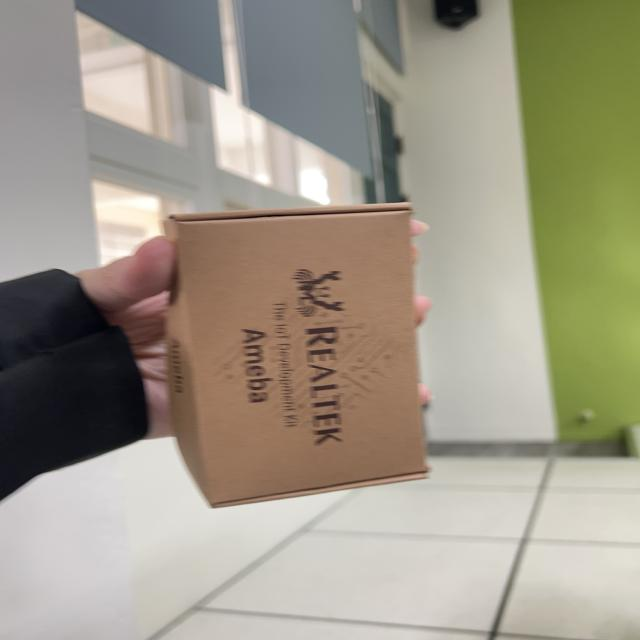box: (144, 206, 462, 511)
